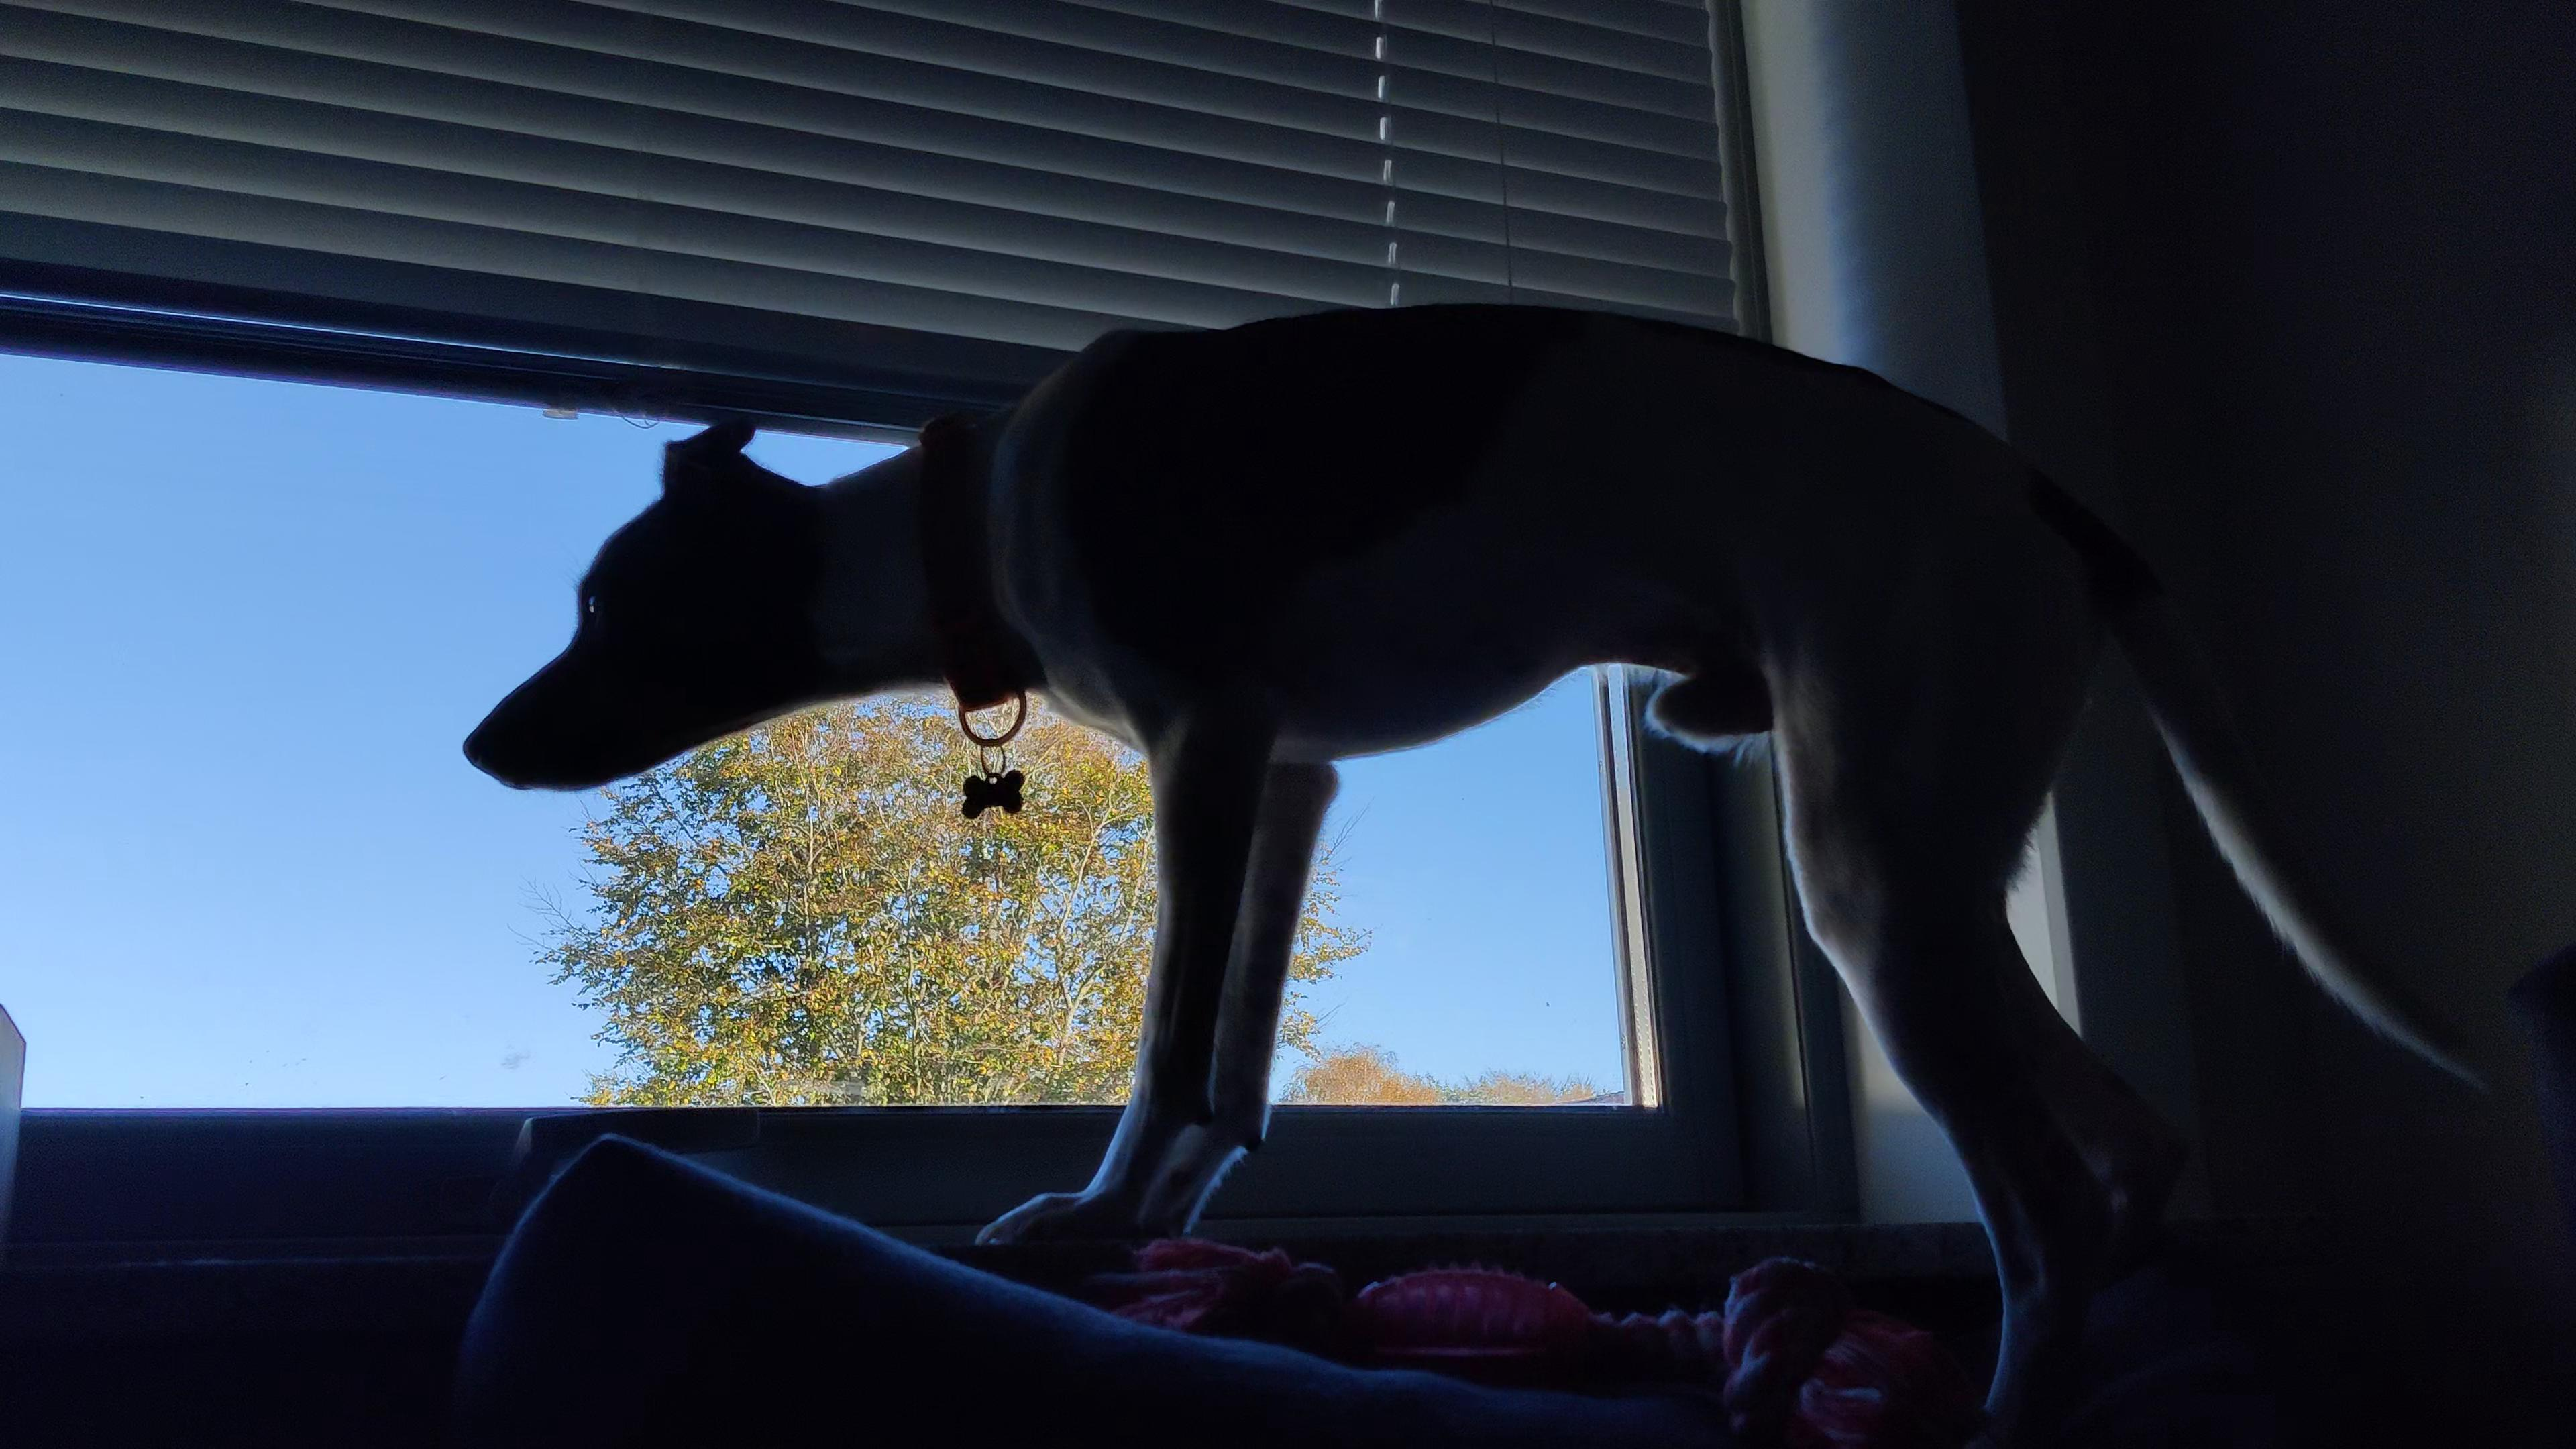Dog: (449, 285, 2503, 1426)
